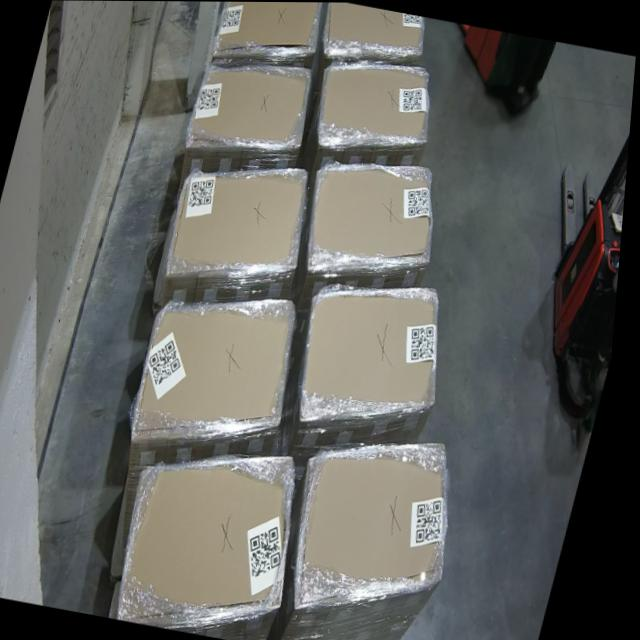pallet: (128, 450, 301, 619), (305, 444, 452, 611), (137, 298, 299, 437), (308, 286, 442, 417), (168, 164, 311, 278), (311, 168, 435, 268), (186, 66, 312, 152), (322, 66, 430, 145), (210, 1, 321, 56), (327, 2, 423, 53)
worker: (551, 91, 634, 451)
